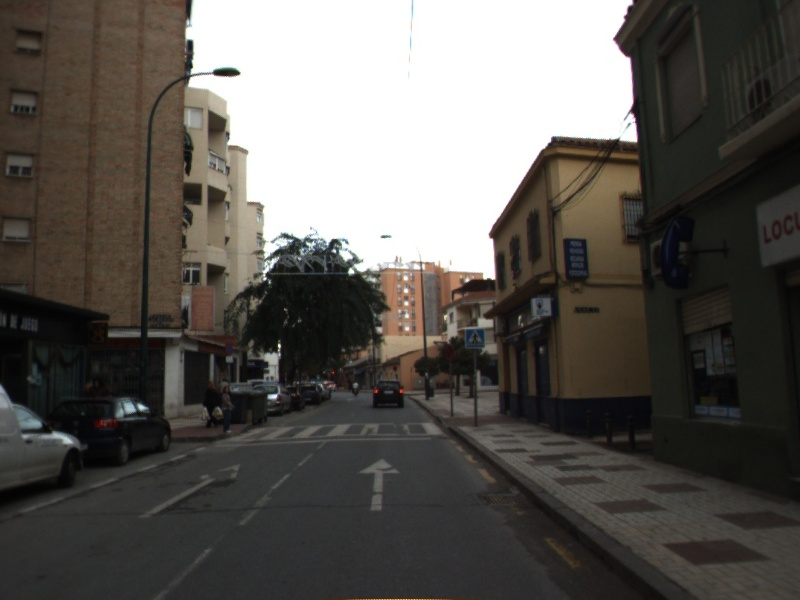STRAIGHT: (135, 461, 243, 521), (356, 457, 402, 513)
